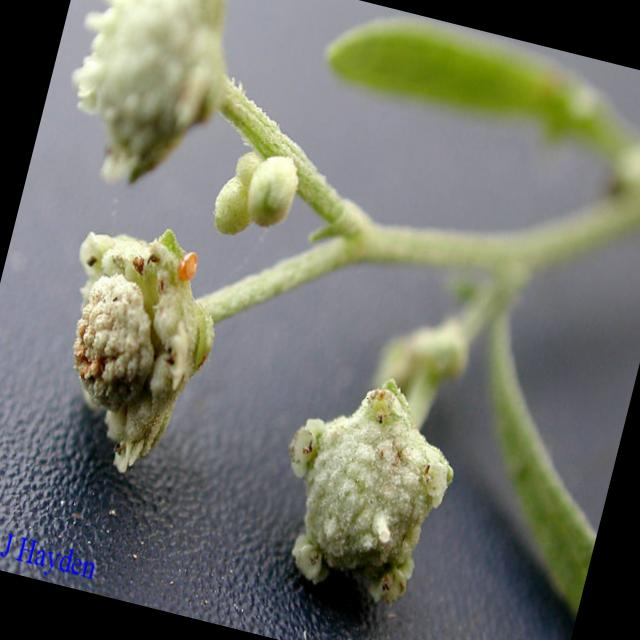Poisonous-Parthenium: (232, 298, 550, 640), (36, 0, 351, 249), (22, 220, 266, 497)
